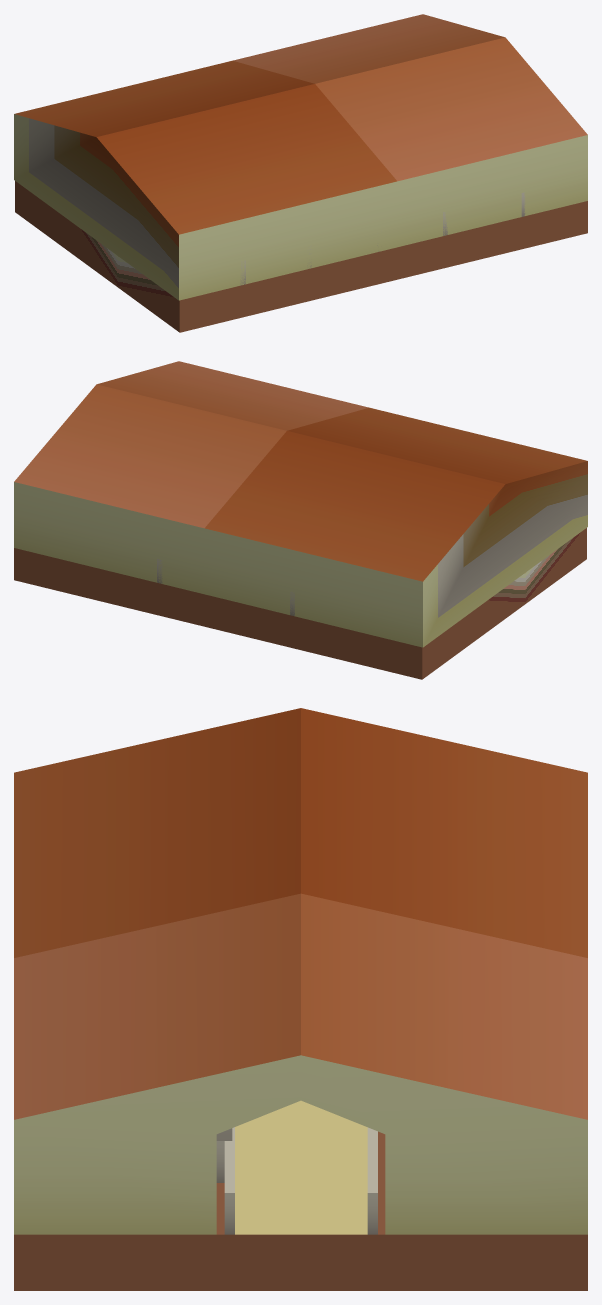
File: SM_Farm_01.fbx
3 views of the same model, one above another, from view 1: azimuth 30°, elevation 25°; view 2: azimuth 150°, elevation 25°; view 3: azimuth 270°, elevation 25° (orthographic). The views are drawn at different scales.
Visible parts, largest first — view 1: Farm_Part_01, Farm_Part_02; view 2: Farm_Part_01, Farm_Part_02; view 3: Farm_Part_01, Farm_Part_02.
Boxes of the visible parts, x1=… form: Farm_Part_01: x1=14, y1=14, x2=587, y2=300; Farm_Part_02: x1=15, y1=181, x2=587, y2=332; Farm_Part_01: x1=14, y1=361, x2=587, y2=647; Farm_Part_02: x1=14, y1=528, x2=586, y2=679; Farm_Part_01: x1=14, y1=708, x2=587, y2=1234; Farm_Part_02: x1=14, y1=1100, x2=587, y2=1290.
Size of the model in its own units: 189 by 59.81 by 132.
